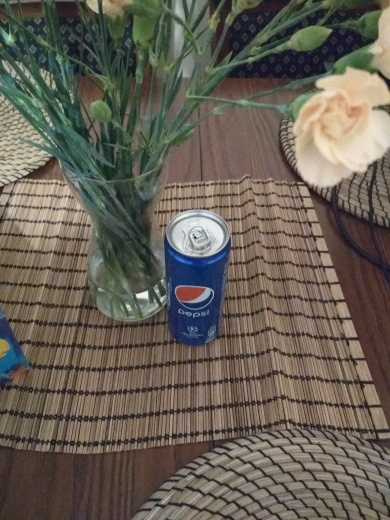pepsi: (152, 209, 237, 346)
